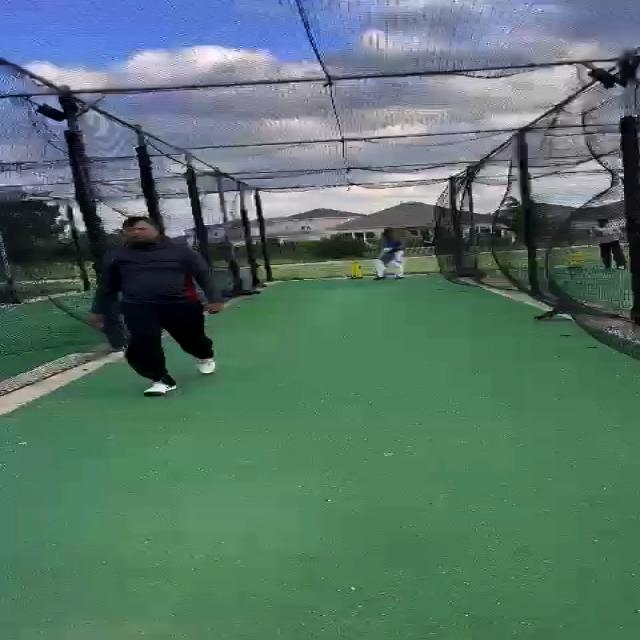batsman: (372, 228, 407, 281)
